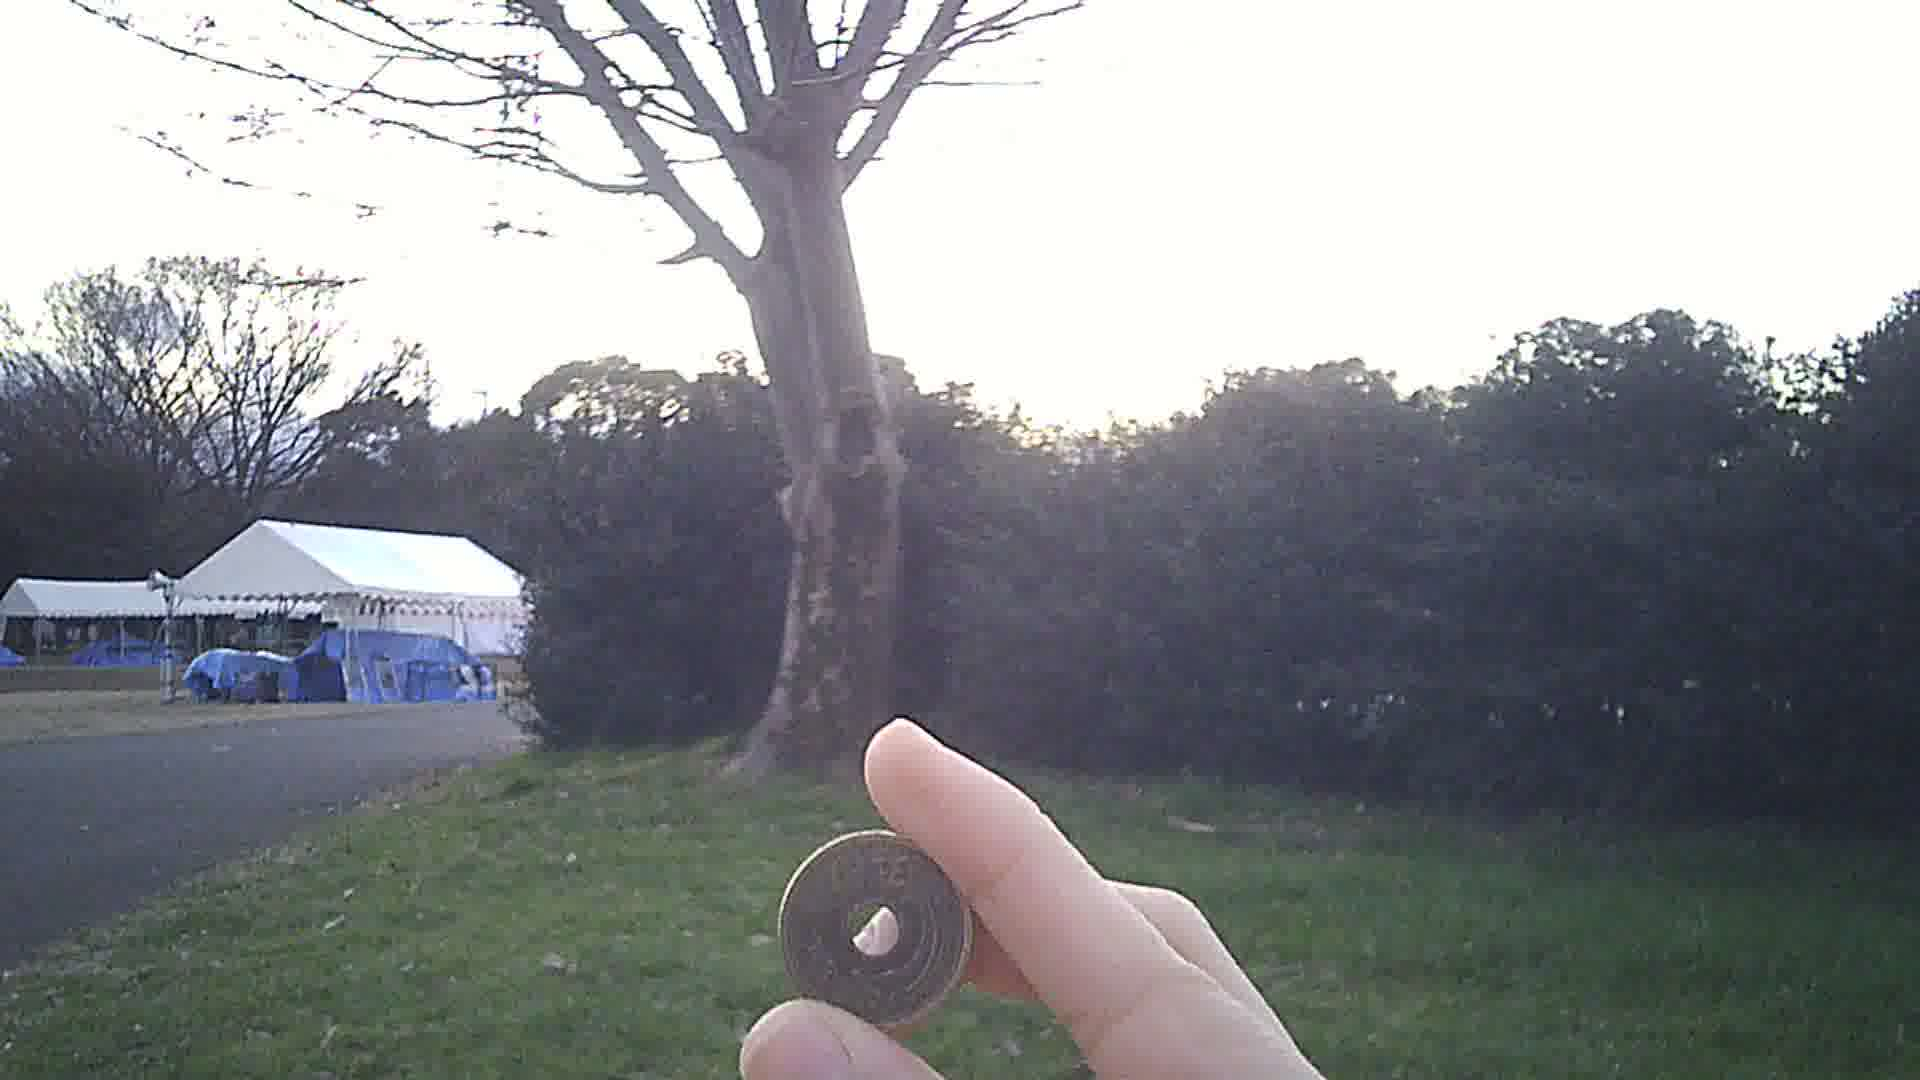5 Yen: (774, 820, 972, 1022)
